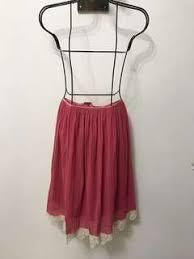C_skirt: (43, 95, 148, 258)
